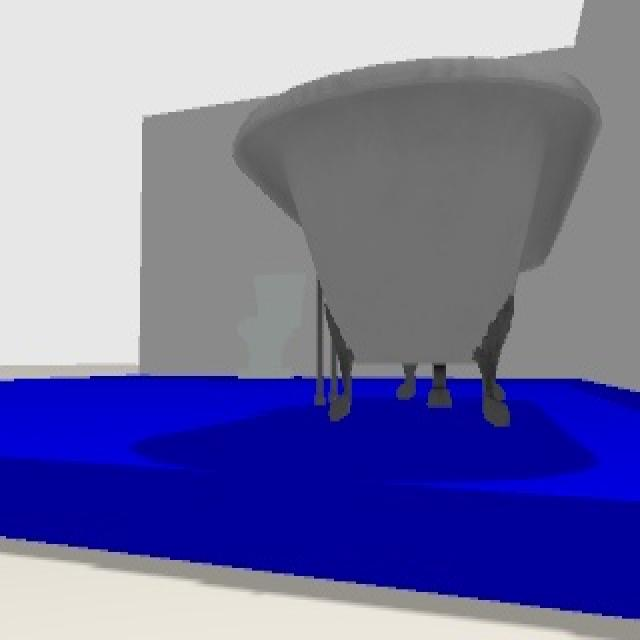bathtub: (232, 56, 604, 429)
